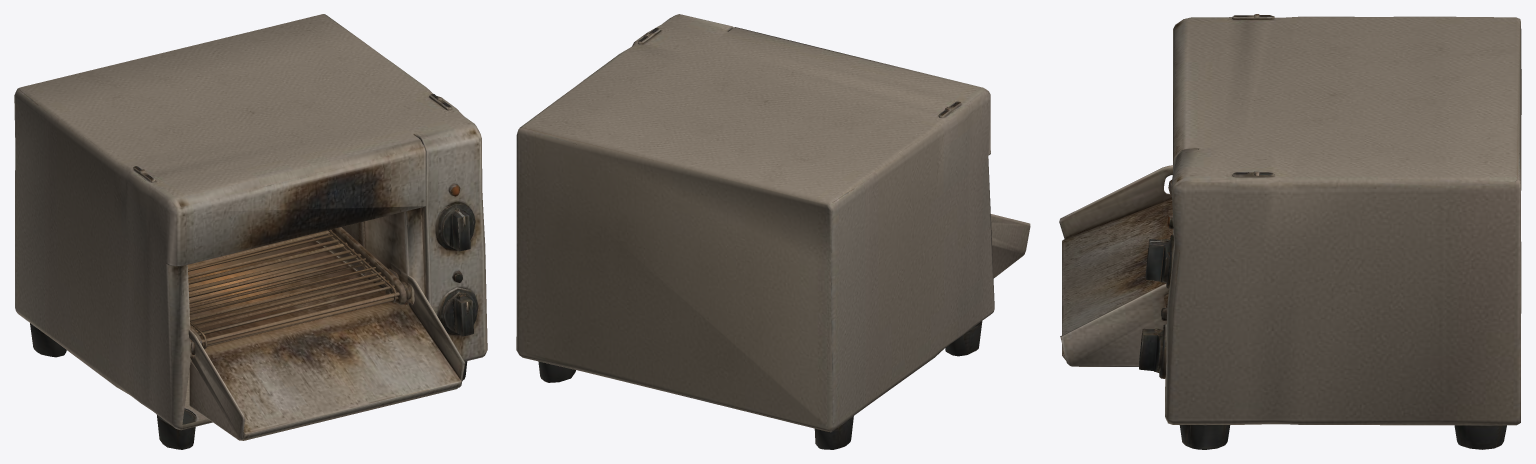
The model's file is p7-conveyor-toaster-t25.glb.
The picture shows the model from 3 angles, left to right: view 1: azimuth 30°, elevation 25°; view 2: azimuth 150°, elevation 25°; view 3: azimuth 270°, elevation 25°; orthographic projection. The views are drawn at different scales.
Parts seen in each view (by area): view 1: p7-conveyor-toaster-t25; view 2: p7-conveyor-toaster-t25; view 3: p7-conveyor-toaster-t25.
Part boxes in pixels (box(x1,y1,x2,y2)): p7-conveyor-toaster-t25: box(14, 14, 487, 449); p7-conveyor-toaster-t25: box(516, 14, 1030, 449); p7-conveyor-toaster-t25: box(1059, 14, 1521, 449).
Bounding box in the file's own units: 0.516 × 0.4 × 0.6.
1 material, 1 textured.
